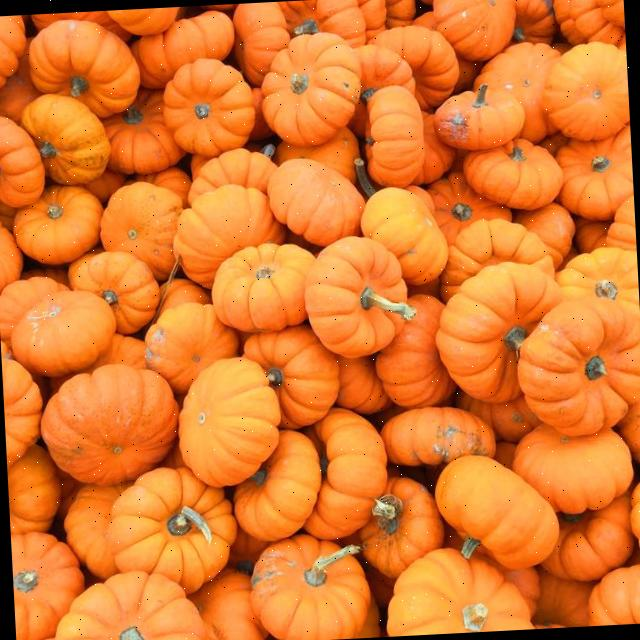pumpkin: (436, 264, 563, 402), (518, 297, 640, 435), (41, 364, 179, 484), (108, 467, 237, 592), (436, 458, 558, 568), (305, 237, 416, 357), (179, 357, 281, 487), (387, 548, 533, 637), (250, 535, 371, 640), (261, 32, 361, 146), (174, 185, 285, 287), (512, 423, 634, 514), (305, 408, 387, 539), (29, 20, 139, 117), (56, 571, 205, 640), (244, 324, 338, 428), (234, 430, 321, 541), (440, 218, 554, 301), (212, 244, 316, 332), (11, 291, 116, 377), (164, 58, 255, 157), (377, 295, 456, 408), (543, 41, 630, 141), (474, 43, 561, 143), (268, 158, 365, 245), (360, 477, 444, 577), (361, 188, 448, 284), (146, 303, 238, 393), (22, 94, 111, 185), (102, 182, 183, 281), (11, 533, 85, 640), (542, 495, 634, 581), (132, 12, 234, 89), (68, 251, 160, 334), (369, 27, 459, 111), (556, 126, 634, 220), (102, 88, 185, 174), (464, 138, 564, 209), (14, 185, 102, 264), (381, 407, 496, 467), (64, 483, 130, 578), (349, 44, 416, 137), (427, 171, 511, 245), (434, 83, 525, 149), (365, 86, 423, 187), (188, 568, 266, 640), (557, 248, 640, 313), (1, 342, 43, 466), (432, 0, 515, 62), (0, 276, 69, 346), (188, 148, 277, 202), (233, 2, 290, 86), (7, 445, 61, 533), (277, 127, 360, 182), (456, 391, 541, 442), (278, 0, 367, 47), (514, 202, 576, 269), (0, 116, 44, 207), (534, 569, 595, 627), (0, 42, 42, 124), (554, 0, 626, 47), (413, 112, 456, 185), (31, 11, 131, 42), (337, 357, 391, 414), (588, 567, 640, 626), (136, 166, 191, 206), (90, 333, 146, 369), (107, 7, 179, 34), (513, 0, 556, 43), (0, 15, 25, 87), (505, 567, 541, 615), (606, 195, 637, 250), (162, 279, 211, 313), (0, 222, 23, 293), (84, 170, 126, 203), (618, 400, 640, 462), (357, 0, 386, 40), (576, 222, 611, 253), (353, 598, 380, 638), (385, 0, 416, 28), (631, 486, 640, 547)
